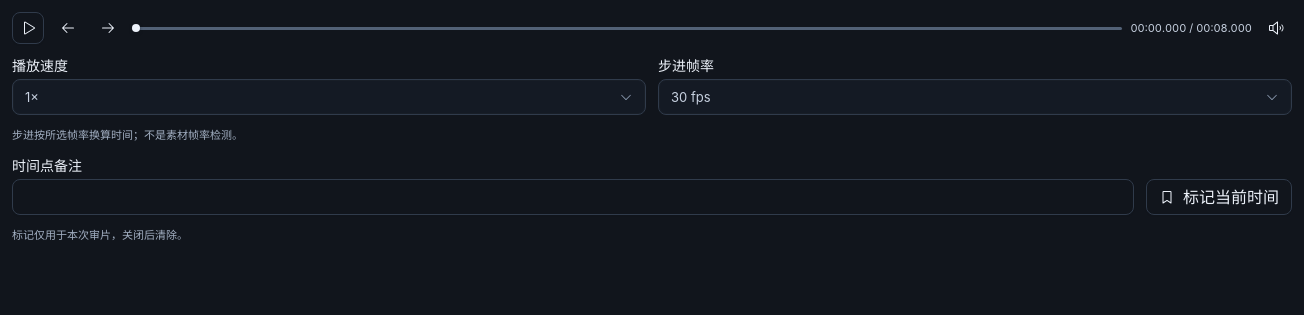
Scenario: VideoReviewControls › pauses both players and reports a rejected play attempt
This screenshot has width=1304, height=315.
Click the button named "播放".
click(28, 28)  # box [12,12,44,44]
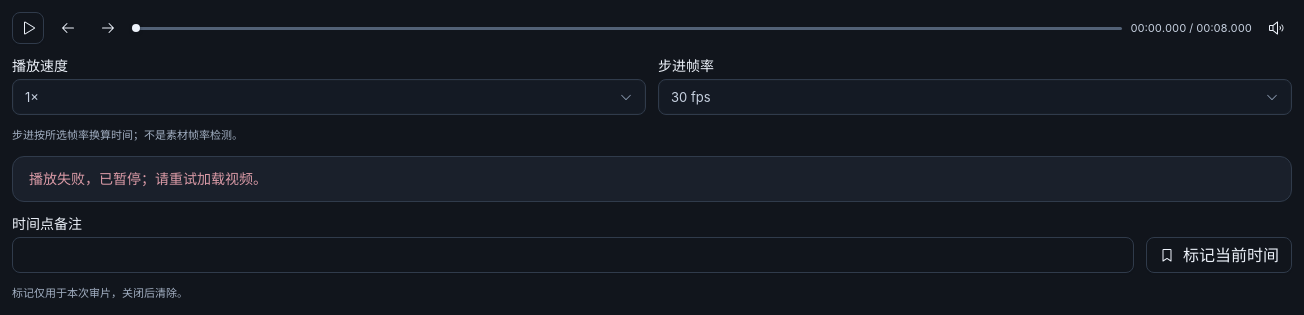
Now the message shows "播放失败", box [29,170,267,187]
